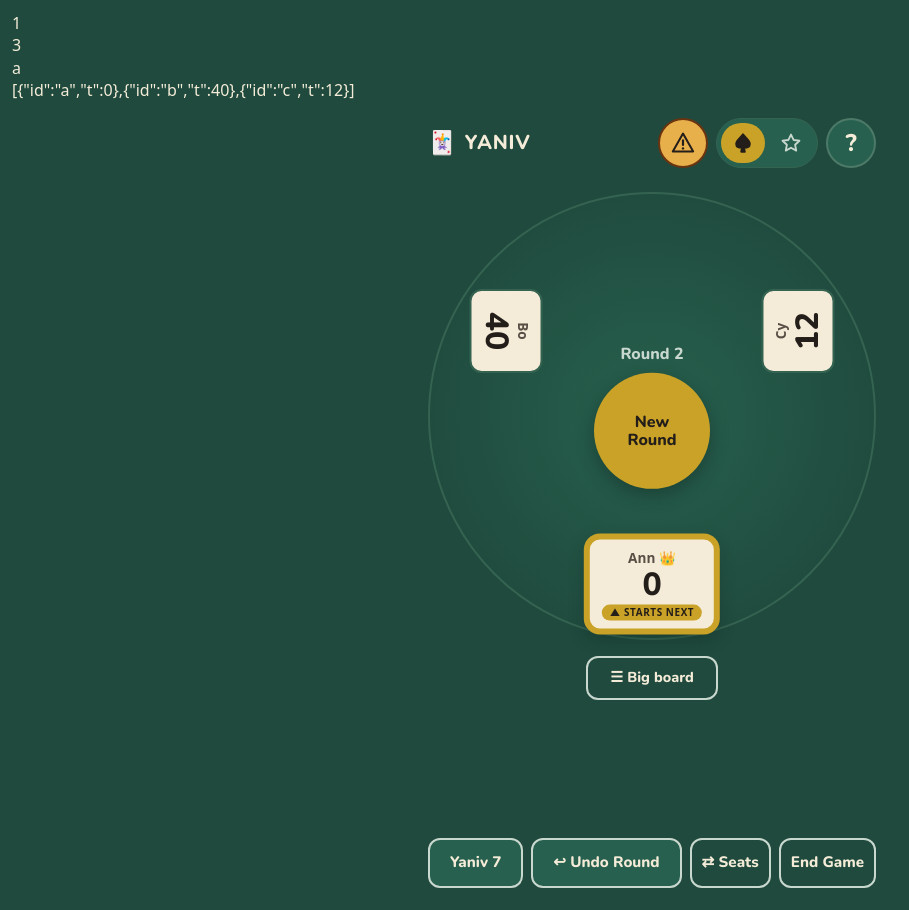
Scenario: PlayScreen — mid-game join via the UI seeds correctly › seeds the joiner at the highest active score, grows the ring, shows callout
This screenshot has width=909, height=910.
Expected: the text with test id "player-count" reads "3", [12,34,21,56]
Step 1. Click the button with aria-label "Rearrange seats" → (730, 863), box [690,838,771,888]
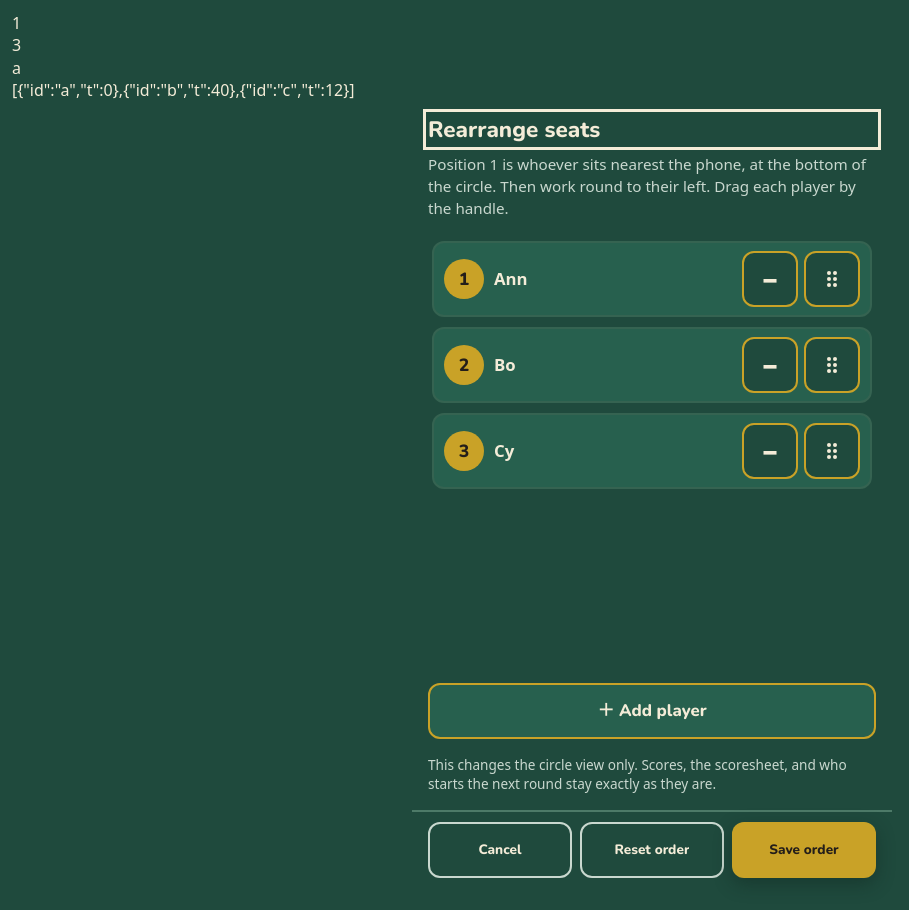
Step 2. Click the button "＋ Add player" → (652, 711), box [428,683,876,739]
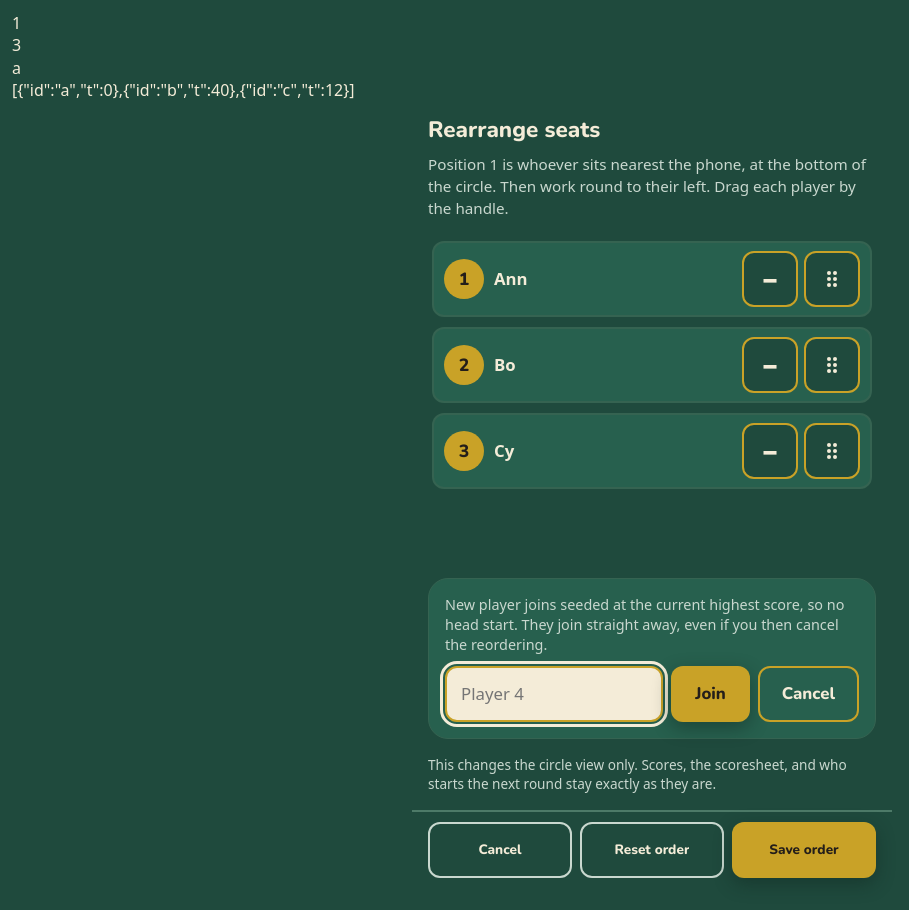
Step 3. Type "Dee" into the field named "New player name" → (554, 694), box [445,666,663,722]
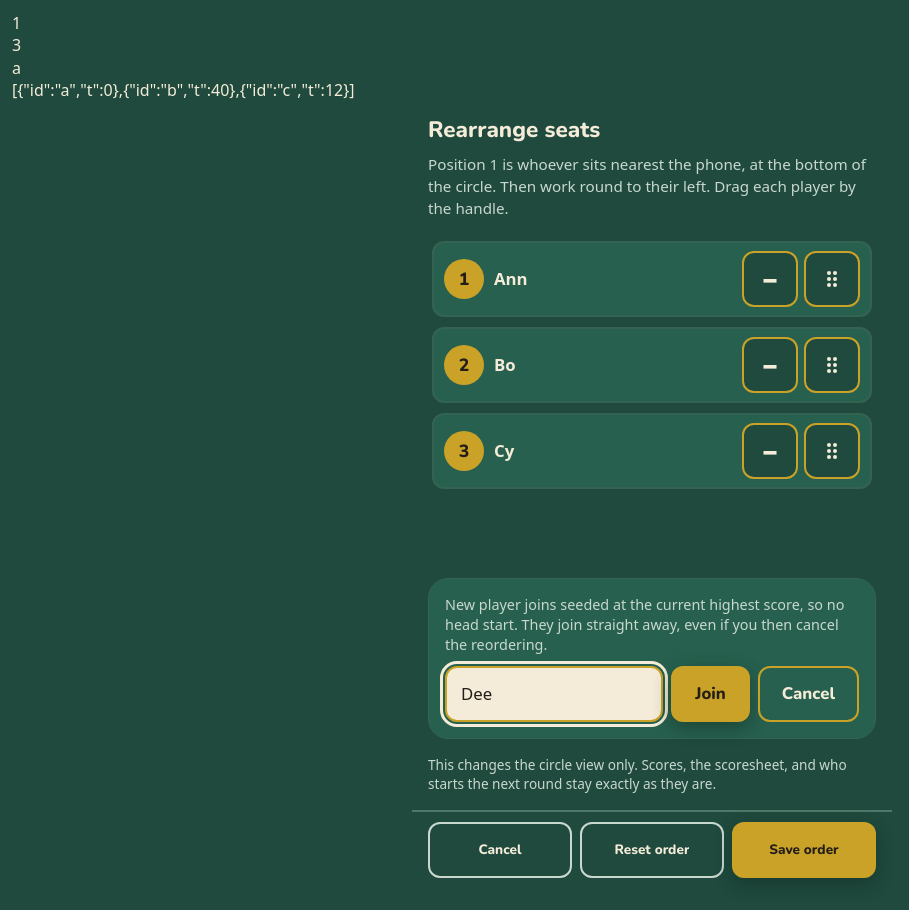
Step 4. Click the button "Join" → (710, 694), box [671,666,750,722]
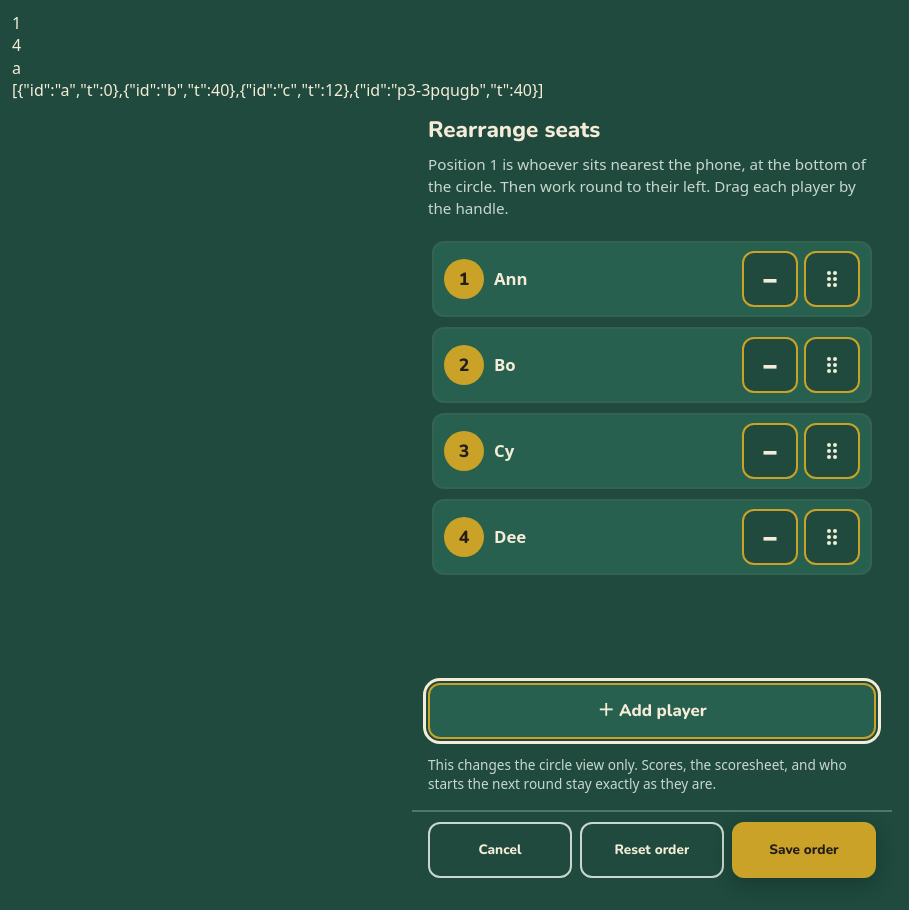
Step 5. Click the button "Cancel" → (500, 850), box [428,822,572,878]
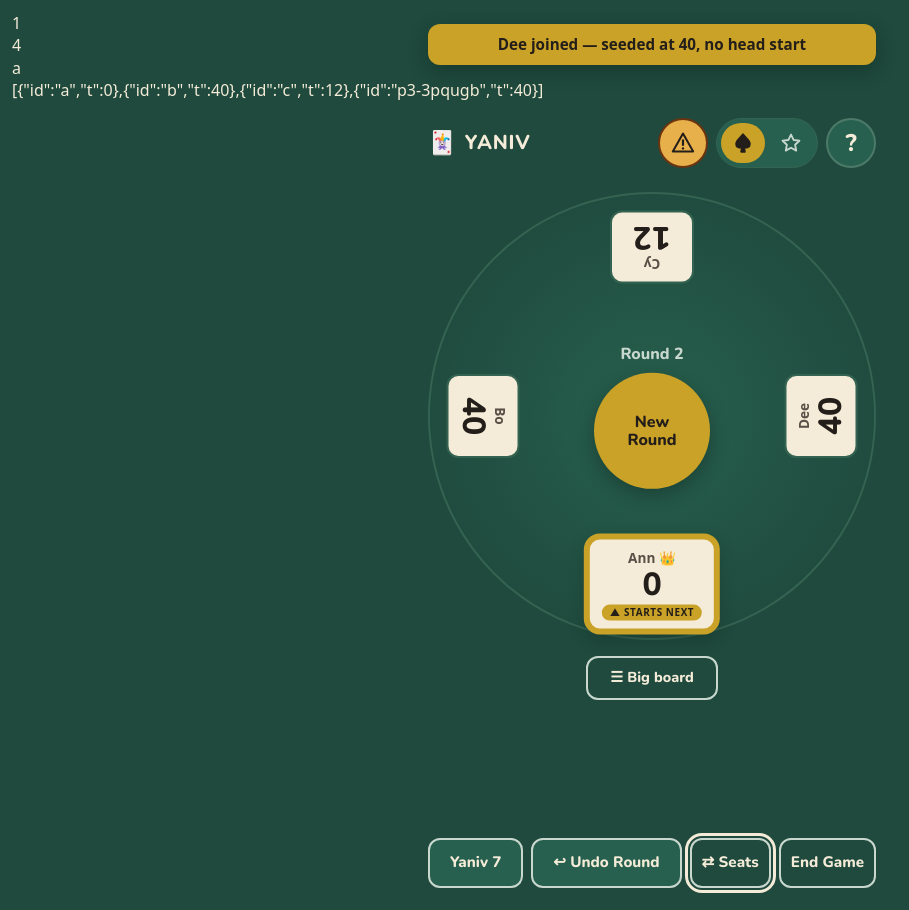
Expected: the text with test id "player-count" reads "4", [12,34,21,56]
Expected: the text "Dee joined — seeded at 40, no head start" is shown, [428,24,876,65]
